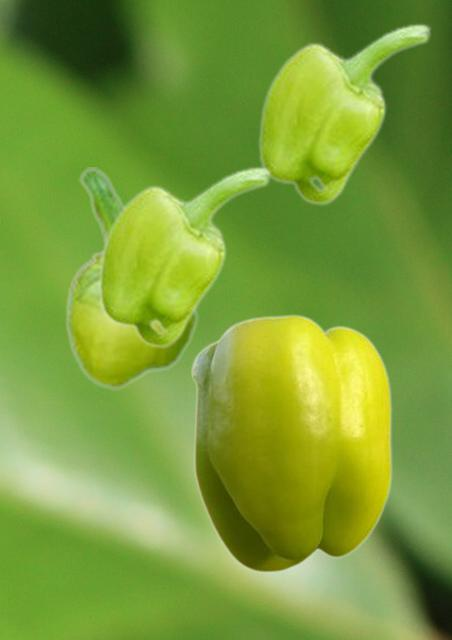bell_pepper: (190, 313, 391, 572), (257, 22, 431, 205), (97, 165, 271, 348), (64, 167, 198, 389)
